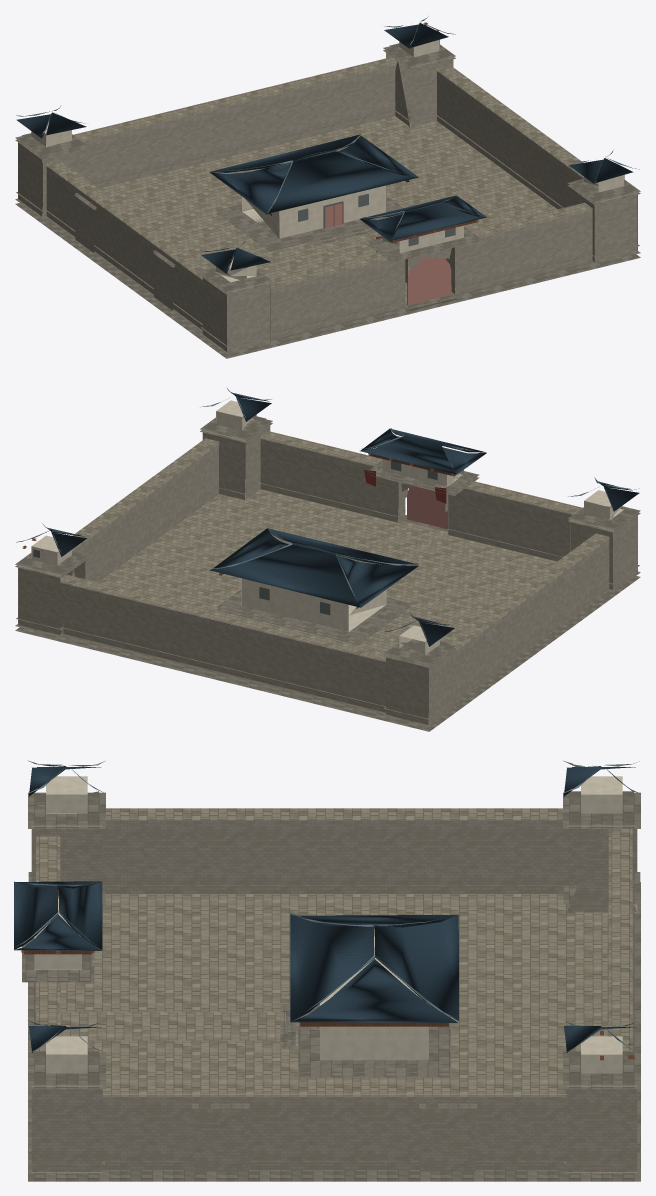
The model's file is city-jade-2.glb.
3 renders of one model, top to bottom at view 1: azimuth 30°, elevation 25°; view 2: azimuth 150°, elevation 25°; view 3: azimuth 270°, elevation 25°, orthographic. The views are drawn at different scales.
Parts seen in each view (by area): view 1: 城墙与城门 · 城池 · 青砖墙, 城墙与城门 · 城池 · 石板铺地, 角楼 · 城池 · 青砖墙, 城内建筑 · 城池 · 青瓦, 城墙与城门 · 城池 · 深色石基, 角楼 · 城池 · 深色石基, 角楼 · 城池 · 青瓦, 城内建筑 · 城池 · 灰浆墙, 城墙与城门 · 城池 · 青瓦, 城内建筑 · 城池 · 深色石基, 城墙与城门 · 城池 · 暗红门扇, 角楼 · 城池 · 灰浆墙 (+2 smaller); view 2: 城墙与城门 · 城池 · 青砖墙, 城墙与城门 · 城池 · 石板铺地, 角楼 · 城池 · 青砖墙, 城内建筑 · 城池 · 青瓦, 城墙与城门 · 城池 · 深色石基, 角楼 · 城池 · 深色石基, 城内建筑 · 城池 · 灰浆墙, 城墙与城门 · 城池 · 青瓦, 角楼 · 城池 · 灰浆墙, 城内建筑 · 城池 · 深色石基, 角楼 · 城池 · 青瓦, 城内建筑 · 城池 · 石板铺地 (+2 smaller); view 3: 城墙与城门 · 城池 · 石板铺地, 城墙与城门 · 城池 · 青砖墙, 城内建筑 · 城池 · 青瓦, 角楼 · 城池 · 青砖墙, 城墙与城门 · 城池 · 深色石基, 角楼 · 城池 · 深色石基, 城内建筑 · 城池 · 石板铺地, 角楼 · 城池 · 灰浆墙, 城墙与城门 · 城池 · 青瓦, 城内建筑 · 城池 · 深色石基, 城内建筑 · 城池 · 灰浆墙, 角楼 · 城池 · 青瓦 (+4 smaller).
Boxes of the visible parts, x1,y1,x2,y2 form: 城墙与城门 · 城池 · 青砖墙: [42, 63, 595, 339]; 城墙与城门 · 城池 · 石板铺地: [42, 57, 595, 302]; 角楼 · 城池 · 青砖墙: [18, 53, 637, 351]; 城内建筑 · 城池 · 青瓦: [209, 134, 418, 214]; 城墙与城门 · 城池 · 深色石基: [15, 106, 640, 358]; 角楼 · 城池 · 深色石基: [15, 43, 640, 353]; 角楼 · 城池 · 青瓦: [16, 23, 633, 273]; 城内建筑 · 城池 · 灰浆墙: [242, 185, 386, 238]; 城墙与城门 · 城池 · 青瓦: [360, 195, 486, 241]; 城内建筑 · 城池 · 深色石基: [217, 196, 403, 251]; 城墙与城门 · 城池 · 暗红门扇: [407, 256, 451, 305]; 角楼 · 城池 · 灰浆墙: [31, 39, 624, 282]; 城墙与城门 · 城池 · 青砖墙: [60, 437, 613, 712]; 城墙与城门 · 城池 · 石板铺地: [60, 431, 613, 668]; 角楼 · 城池 · 青砖墙: [18, 426, 637, 724]; 城内建筑 · 城池 · 青瓦: [209, 528, 418, 607]; 城墙与城门 · 城池 · 深色石基: [15, 460, 640, 731]; 角楼 · 城池 · 深色石基: [15, 414, 640, 726]; 城内建筑 · 城池 · 灰浆墙: [241, 578, 386, 632]; 城墙与城门 · 城池 · 青瓦: [360, 428, 486, 474]; 角楼 · 城池 · 灰浆墙: [31, 400, 623, 654]; 城内建筑 · 城池 · 深色石基: [217, 589, 411, 644]; 角楼 · 城池 · 青瓦: [48, 393, 639, 646]; 城内建筑 · 城池 · 石板铺地: [353, 521, 445, 564]; 城墙与城门 · 城池 · 石板铺地: [36, 808, 632, 1096]; 城墙与城门 · 城池 · 青砖墙: [102, 818, 608, 1171]; 城内建筑 · 城池 · 青瓦: [290, 914, 458, 1022]; 角楼 · 城池 · 青砖墙: [31, 825, 637, 1172]; 城墙与城门 · 城池 · 深色石基: [22, 879, 640, 1181]; 角楼 · 城池 · 深色石基: [28, 791, 640, 1173]; 城内建筑 · 城池 · 石板铺地: [60, 1012, 285, 1040]; 角楼 · 城池 · 灰浆墙: [46, 776, 622, 1073]; 城墙与城门 · 城池 · 青瓦: [14, 881, 102, 950]; 城内建筑 · 城池 · 深色石基: [280, 1002, 450, 1077]; 城内建筑 · 城池 · 灰浆墙: [320, 936, 428, 1060]; 角楼 · 城池 · 青瓦: [29, 766, 636, 1052].
Bounding box in the file's own units: 51.99 × 11.56 × 46.95.
Materials: 11 (7 with a texture image).
